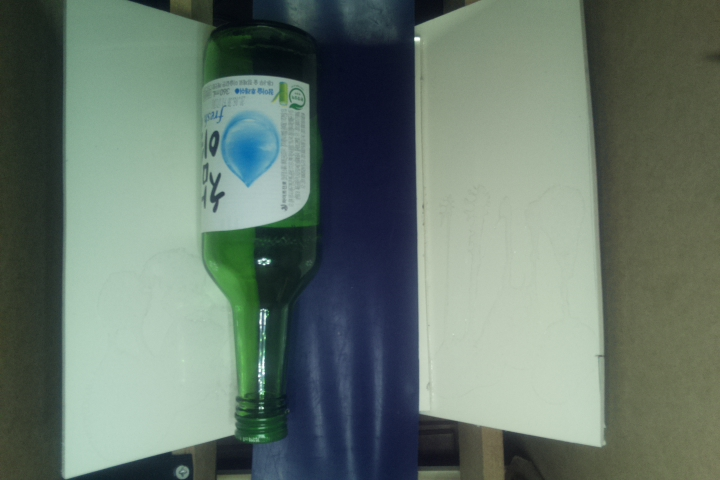soju: (203, 24, 326, 445)
